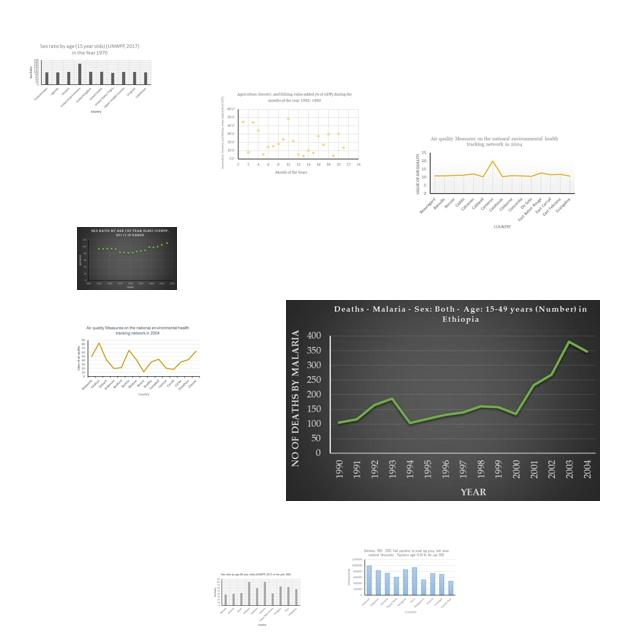Graph: (286, 300, 600, 501), (411, 133, 578, 232), (217, 89, 363, 177), (74, 323, 201, 399), (26, 42, 154, 114), (344, 547, 458, 614), (77, 227, 177, 290), (211, 572, 302, 626)
